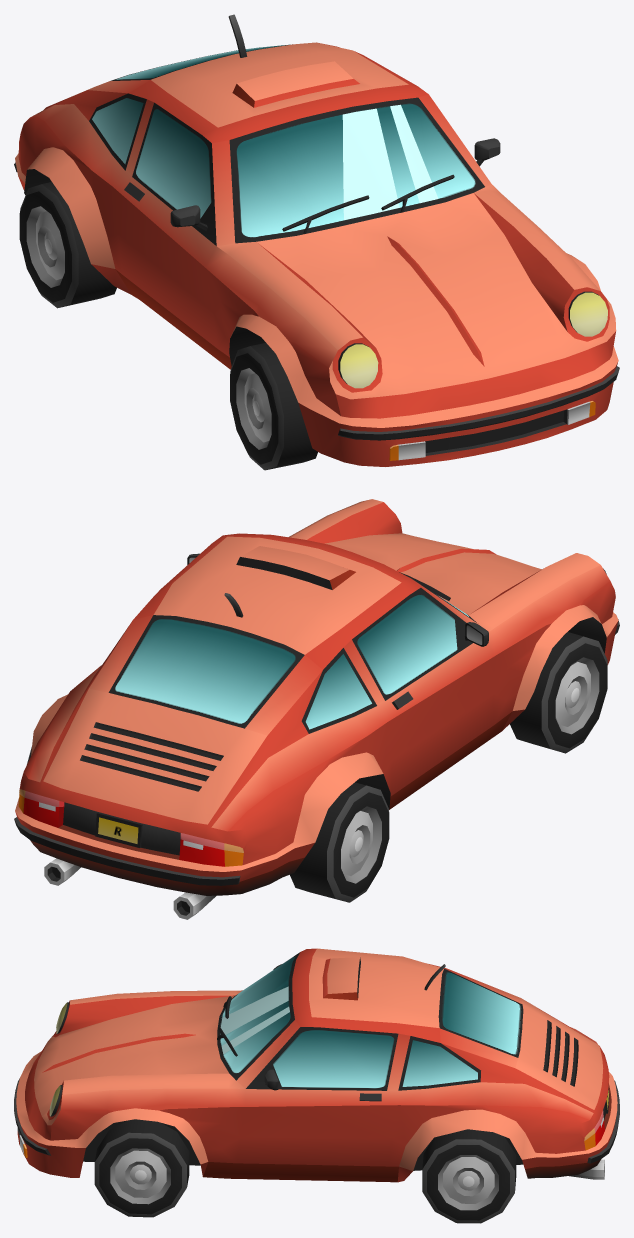
Rendered from car.glb.
3 renders of one model, top to bottom at view 1: azimuth 30°, elevation 25°; view 2: azimuth 150°, elevation 25°; view 3: azimuth 270°, elevation 25°, orthographic. The views are drawn at different scales.
Parts seen in each view (by area): view 1: Object_2.001, Object_7.001, Object_9.001; view 2: Object_2.001, Object_9.001, Object_7.001; view 3: Object_2.001, Object_6.001, Object_8.001.
Part boxes in pixels (box(x1,y1,x2,y2)): Object_2.001: box(14, 14, 619, 466); Object_7.001: box(230, 343, 317, 470); Object_9.001: box(19, 182, 116, 308); Object_2.001: box(14, 499, 619, 919); Object_9.001: box(290, 782, 389, 902); Object_7.001: box(510, 632, 607, 753); Object_2.001: box(14, 948, 619, 1182); Object_6.001: box(94, 1119, 189, 1217); Object_8.001: box(422, 1129, 516, 1223).
Size of the model in its own units: 2.34 by 1.71 by 4.74.
1 material, 1 textured.
